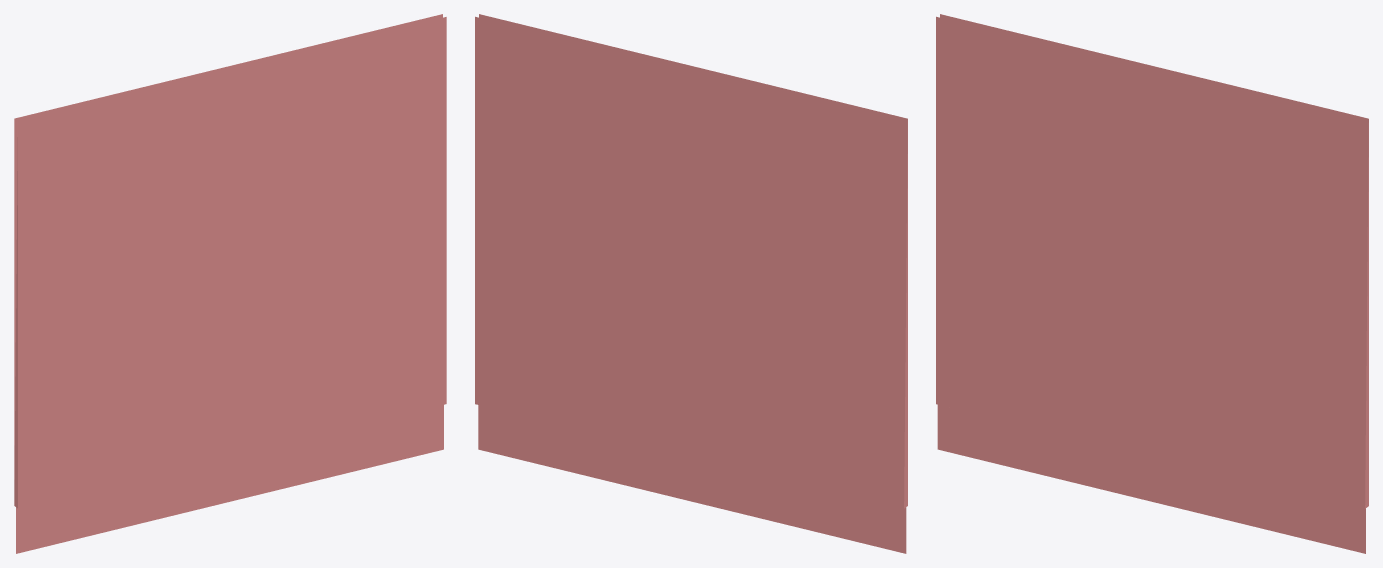
File: doorcave.glb
3 renders of one model, left to right at view 1: azimuth 30°, elevation 25°; view 2: azimuth 150°, elevation 25°; view 3: azimuth 330°, elevation 25°, orthographic.
Visible parts, largest first — view 1: doorcave; view 2: doorcave; view 3: doorcave.
Part boxes in pixels (bbox=[...]): doorcave: bbox=[14, 14, 446, 553]; doorcave: bbox=[475, 14, 907, 553]; doorcave: bbox=[936, 14, 1368, 553].
Bounding box in the file's own units: 1957 × 1891 × 29.56.
